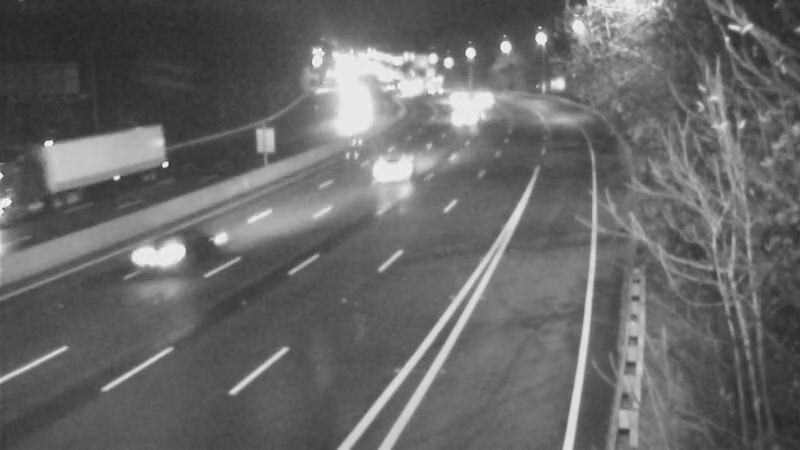vehicle: (350, 129, 430, 209), (120, 216, 200, 296), (1, 161, 77, 241), (409, 61, 459, 111), (428, 70, 478, 120), (456, 73, 506, 123), (445, 83, 495, 133), (441, 93, 491, 143)
